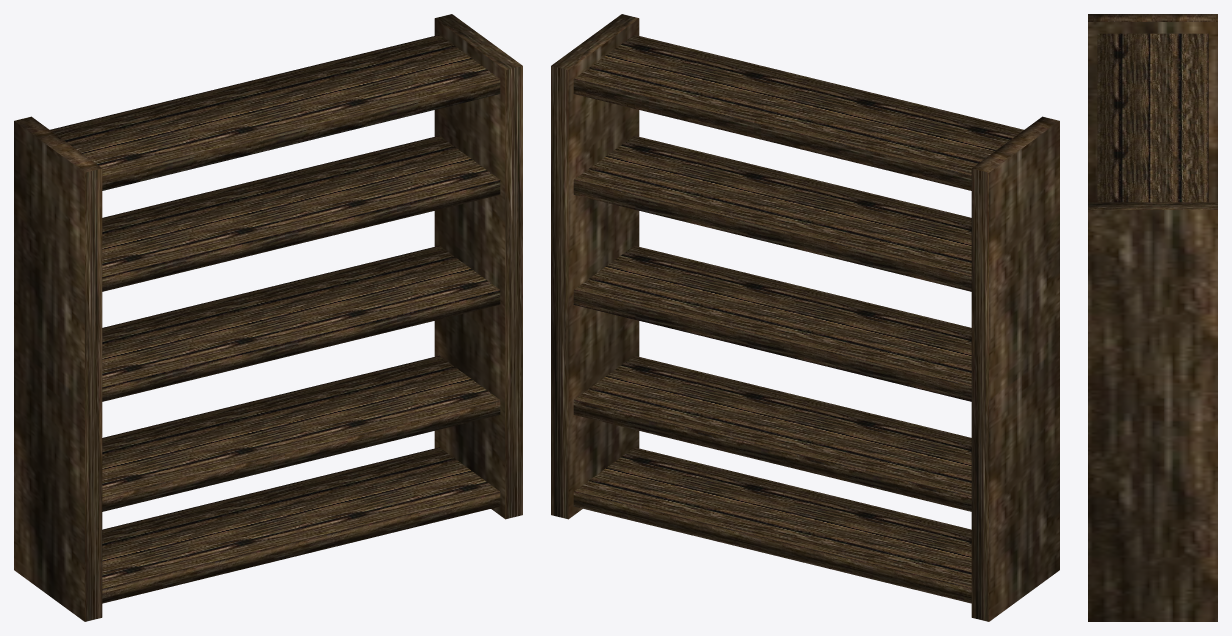
The model's file is OC_MOB_SHELVES_BIG.glb.
3 views of the same model, side by side, from view 1: azimuth 30°, elevation 25°; view 2: azimuth 150°, elevation 25°; view 3: azimuth 270°, elevation 25° (orthographic). The views are drawn at different scales.
Parts seen in each view (by area): view 1: Mesh; view 2: Mesh; view 3: Mesh.
Boxes of the visible parts, <box> form: Mesh: <box>14,14,522,621</box>; Mesh: <box>551,14,1059,621</box>; Mesh: <box>1088,14,1217,621</box>.
Size of the model in its own units: 2.5 by 2.45 by 0.7.
Materials: 1 (1 with a texture image).
